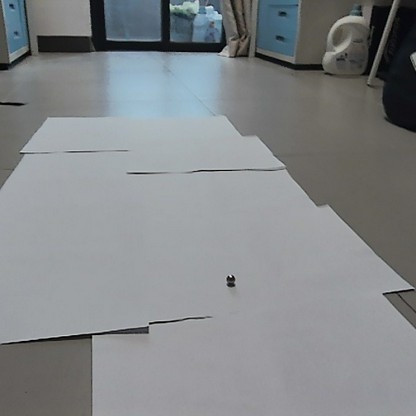ironball: (222, 271, 236, 287)
